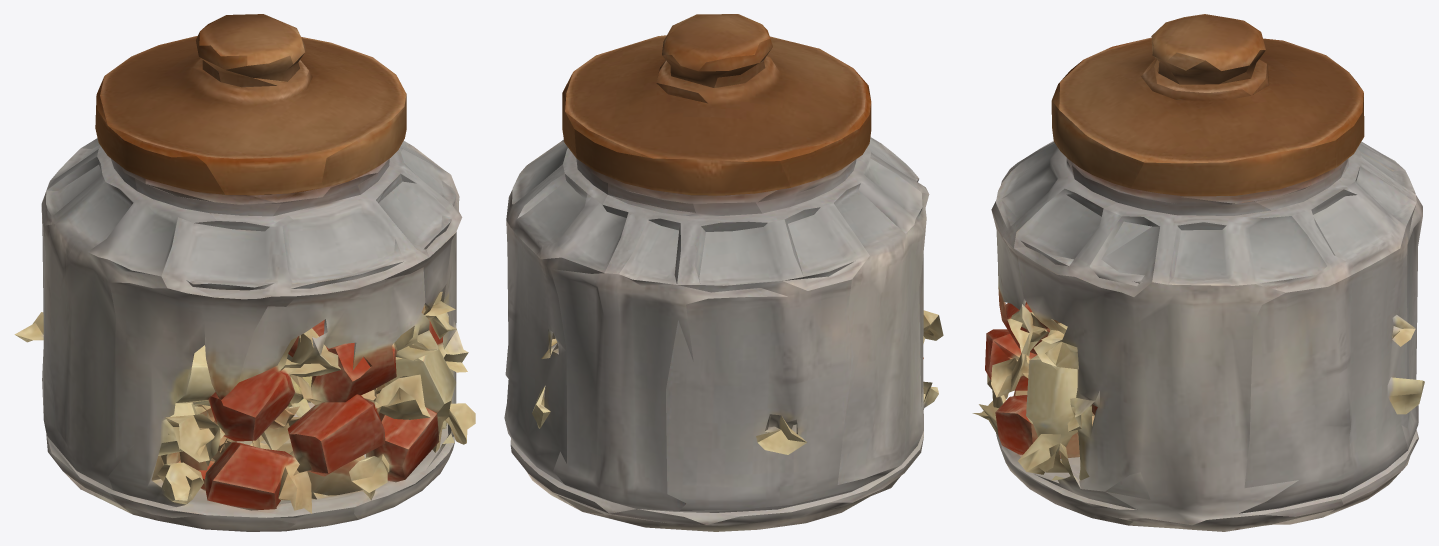
The model's file is jar.glb.
3 renders of one model, left to right at view 1: azimuth 30°, elevation 25°; view 2: azimuth 150°, elevation 25°; view 3: azimuth 270°, elevation 25°, orthographic.
Visible parts, largest first — view 1: world; view 2: world; view 3: world.
Part boxes in pixels (<box>): world: <box>14,14,475,531</box>; world: <box>504,14,943,531</box>; world: <box>972,14,1424,531</box>.
Bounding box in the file's own units: 0.912 × 1 × 0.98.
Materials: 1 (1 with a texture image).
